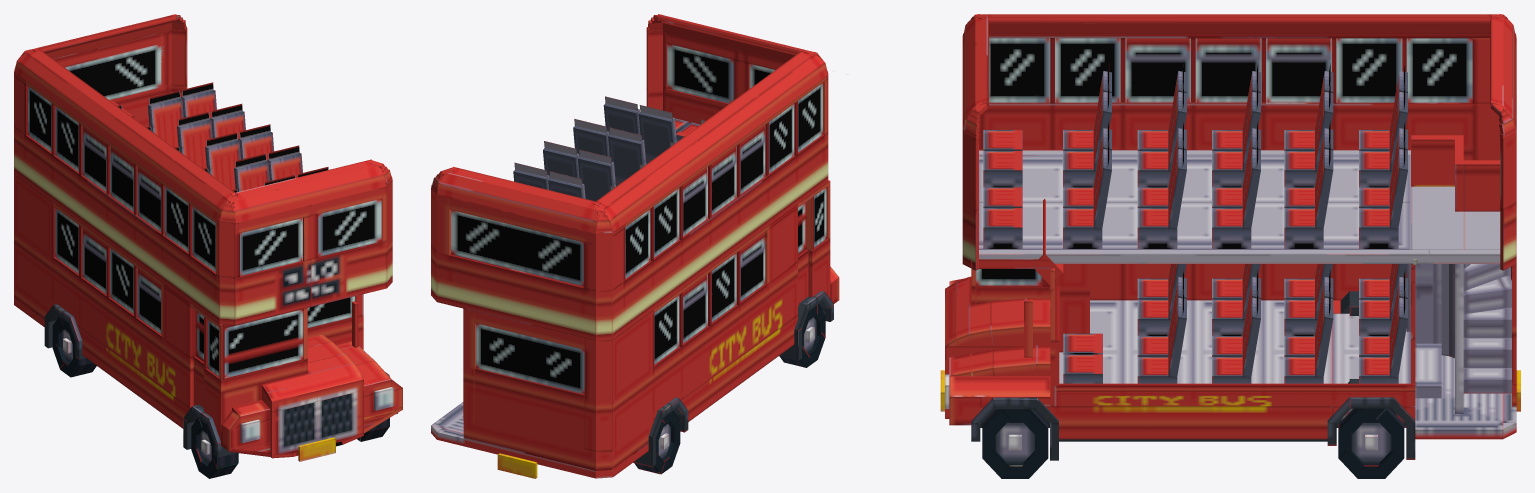
The model's file is BUS.fbx.
The picture shows the model from 3 angles, left to right: view 1: azimuth 30°, elevation 25°; view 2: azimuth 150°, elevation 25°; view 3: azimuth 270°, elevation 25°; orthographic projection. The views are drawn at different scales.
Visible parts, largest first — view 1: _gltfNode_0, _gltfNode_98, _gltfNode_382, _gltfNode_130, _gltfNode_388, _gltfNode_386, _gltfNode_423, _gltfNode_4, _gltfNode_22, _gltfNode_145, _gltfNode_157, _gltfNode_155 (+51 smaller); view 2: _gltfNode_0, _gltfNode_98, _gltfNode_18, _gltfNode_382, _gltfNode_373, _gltfNode_145, _gltfNode_388, _gltfNode_377, _gltfNode_386, _gltfNode_157, _gltfNode_130, _gltfNode_155 (+41 smaller); view 3: _gltfNode_98, _gltfNode_578, _gltfNode_0, _gltfNode_25, _gltfNode_351, _gltfNode_35, _gltfNode_382, _gltfNode_27, _gltfNode_155, _gltfNode_159, _gltfNode_584, _gltfNode_41 (+86 smaller).
Part boxes in pixels (x1,y1,x2,y2): _gltfNode_0: (14,127,219,323); _gltfNode_98: (28,86,215,272); _gltfNode_382: (53,257,193,408); _gltfNode_130: (240,199,381,275); _gltfNode_388: (55,208,161,333); _gltfNode_386: (14,174,55,306); _gltfNode_423: (224,309,303,378); _gltfNode_4: (235,259,311,325); _gltfNode_22: (311,241,386,306); _gltfNode_145: (65,43,163,99); _gltfNode_157: (17,51,229,210); _gltfNode_155: (14,61,222,221); _gltfNode_0: (612,132,828,339); _gltfNode_98: (625,83,822,278); _gltfNode_18: (437,252,595,340); _gltfNode_382: (654,262,797,419); _gltfNode_373: (475,368,584,448); _gltfNode_145: (451,210,583,286); _gltfNode_388: (654,232,765,364); _gltfNode_377: (475,323,584,394); _gltfNode_386: (612,310,654,450); _gltfNode_157: (601,53,824,220); _gltfNode_130: (667,43,774,103); _gltfNode_155: (609,63,828,232); _gltfNode_98: (989,38,1472,102); _gltfNode_578: (1050,300,1331,439); _gltfNode_0: (978,102,1500,160); _gltfNode_25: (979,202,1410,249); _gltfNode_351: (1054,383,1415,406); _gltfNode_35: (979,155,1410,202); _gltfNode_382: (1090,264,1391,300); _gltfNode_27: (979,250,1428,263); _gltfNode_155: (989,24,1489,33); _gltfNode_159: (982,14,1496,22); _gltfNode_584: (1415,355,1503,439); _gltfNode_41: (1411,186,1463,249).
Size of the model in its own units: 380 by 574 by 901.
